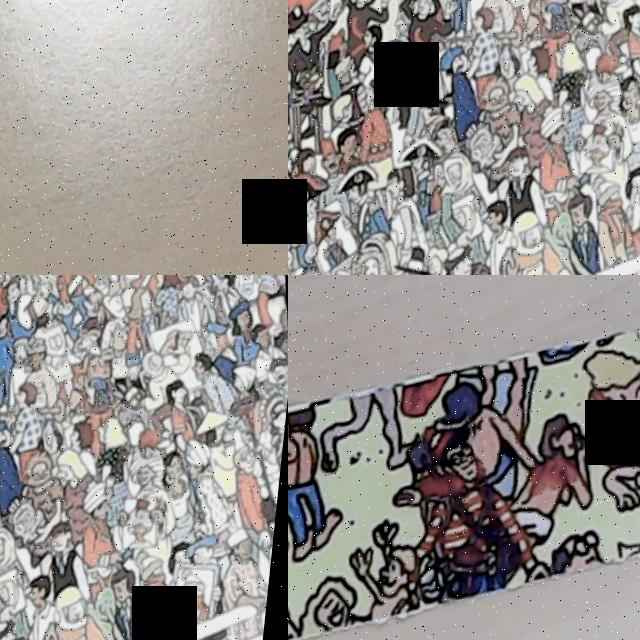waldo: (420, 409, 500, 509), (432, 120, 471, 166), (0, 494, 14, 540)
